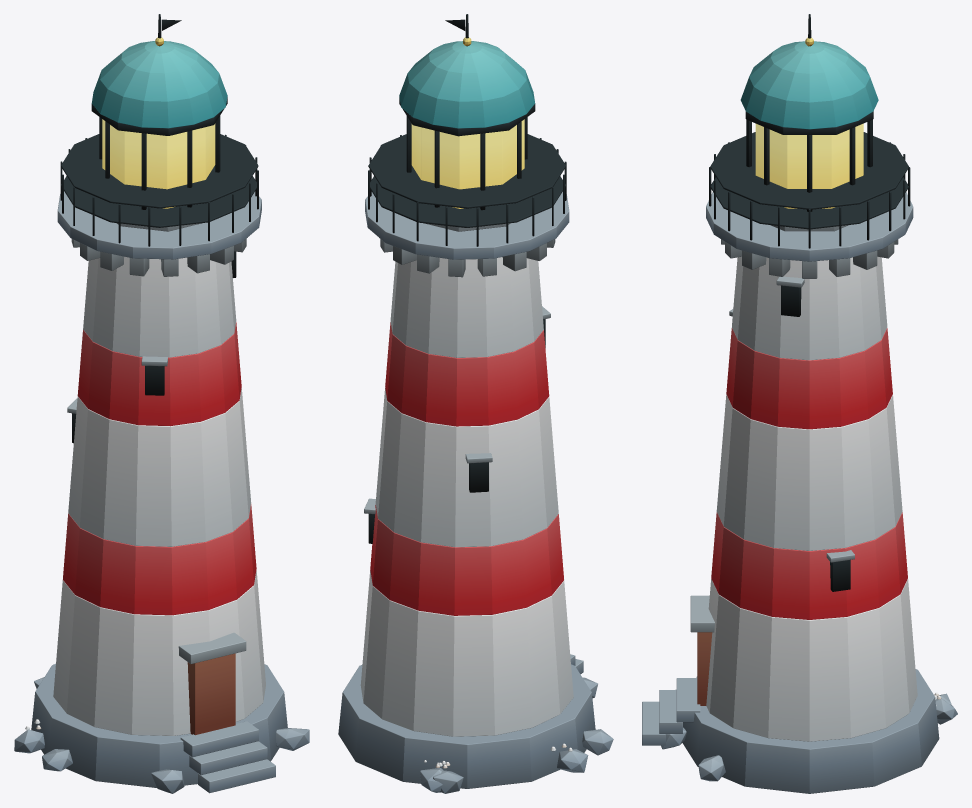
The model's file is lighthouse.glb.
The picture shows the model from 3 angles, left to right: view 1: azimuth 30°, elevation 25°; view 2: azimuth 150°, elevation 25°; view 3: azimuth 270°, elevation 25°; orthographic projection.
Visible parts, largest first — view 1: lighthouse; view 2: lighthouse; view 3: lighthouse.
Boxes of the visible parts, x1,y1,x2,y2 form: lighthouse: [14, 14, 309, 793]; lighthouse: [338, 14, 613, 793]; lighthouse: [642, 14, 957, 793].
Size of the model in its own units: 6.53 by 18.56 by 7.3.
3 materials, 3 textured.
